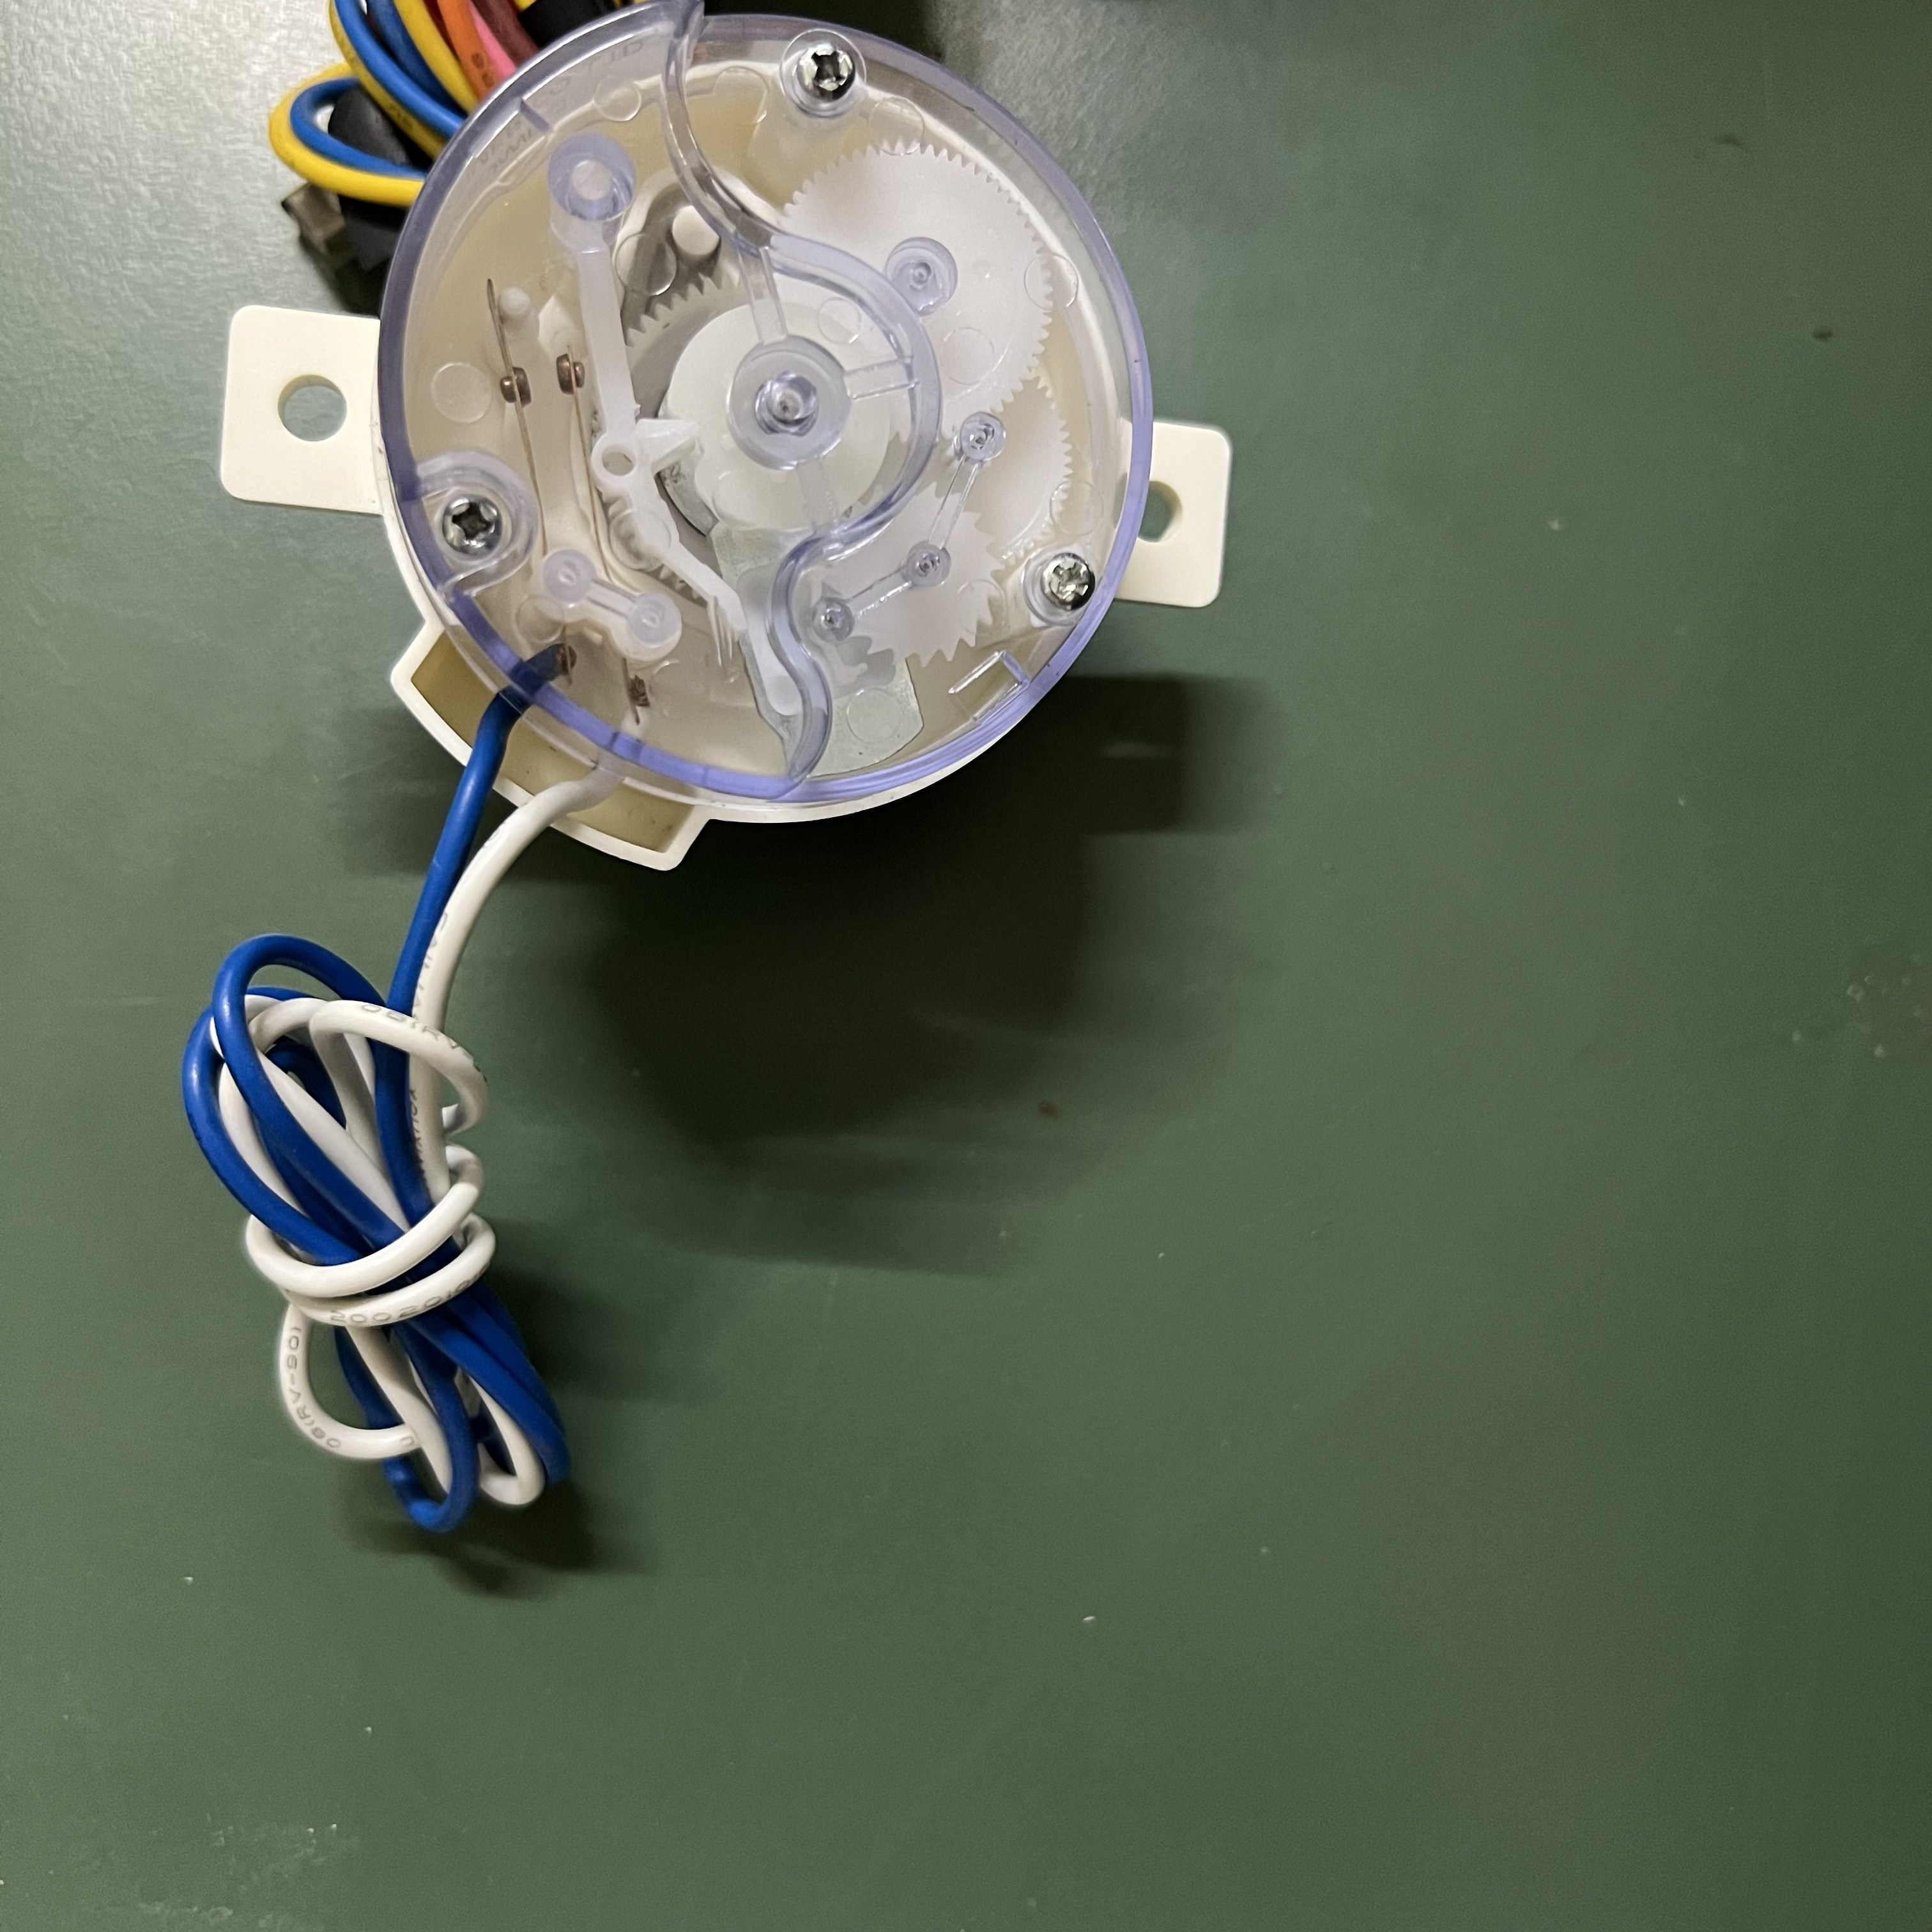circle_timer: (119, 0, 1352, 1559)
